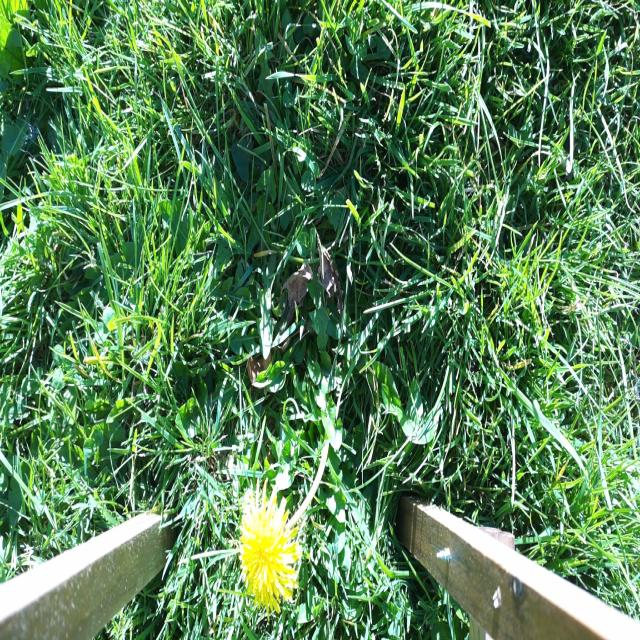base: (316, 423, 336, 465)
flower: (239, 484, 298, 612)
